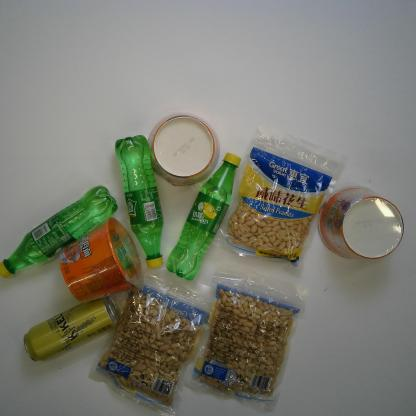Alcohol: (22, 294, 121, 363)
Dried Fruit: (217, 122, 349, 280), (183, 267, 311, 414), (88, 272, 213, 416)
Drink: (0, 184, 119, 280), (166, 153, 242, 282), (114, 134, 164, 269)
Instant Noodles: (58, 217, 142, 304), (317, 184, 405, 260), (147, 112, 221, 186)
